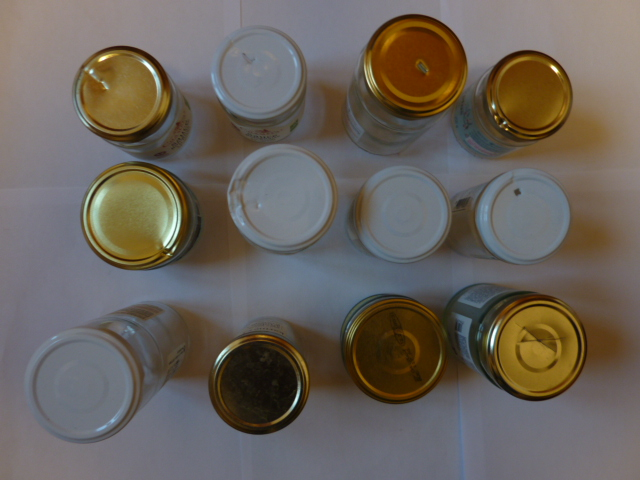damaged: (490, 297, 586, 400), (476, 170, 571, 264), (487, 48, 574, 141)
intact: (24, 327, 142, 443), (207, 334, 310, 437)
